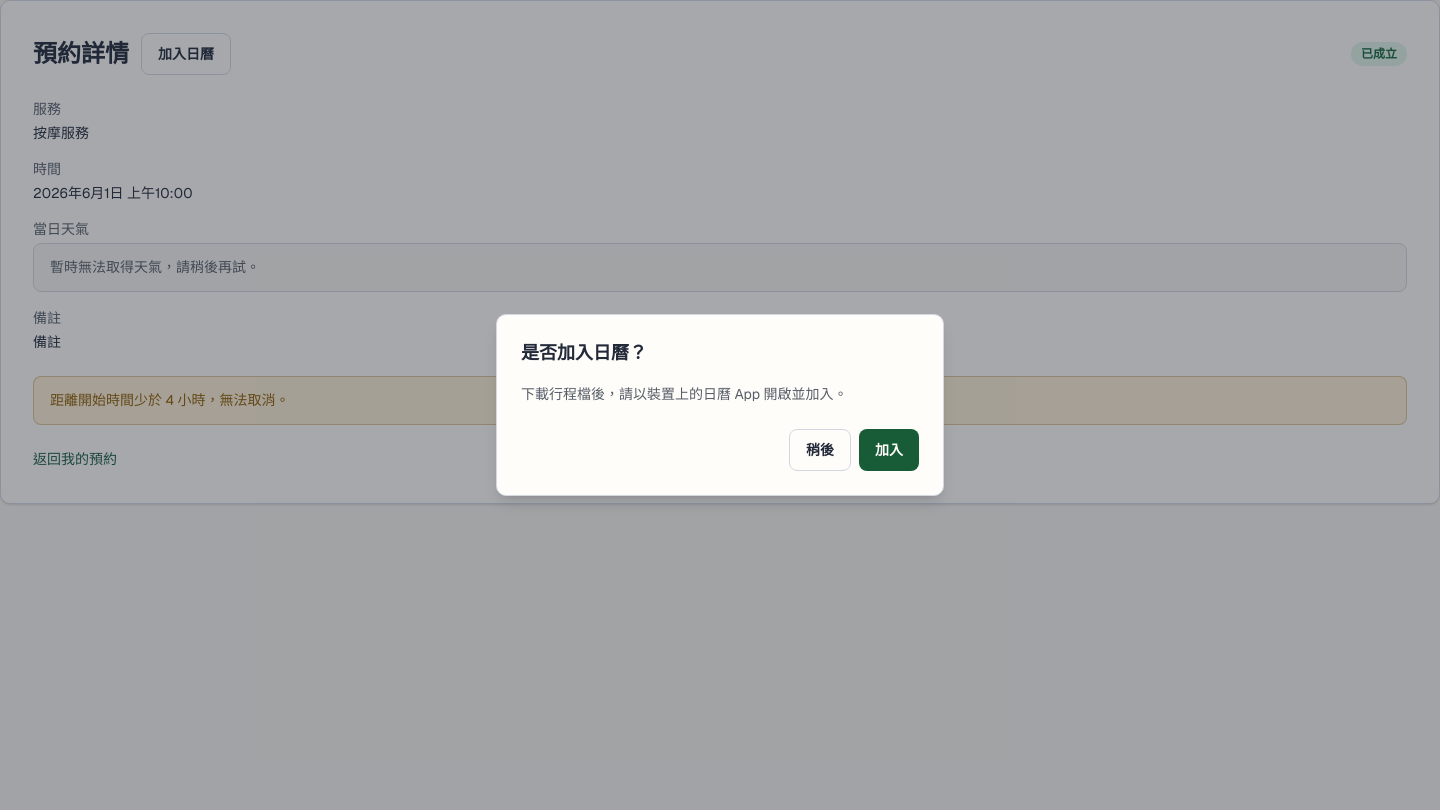
Test: BookingDetailClient › Dialog 點稍後可關閉
Check: the dialog is shown, box [496,314,944,496]
Click the button "稍後": [820, 450] box [789,429,851,471]
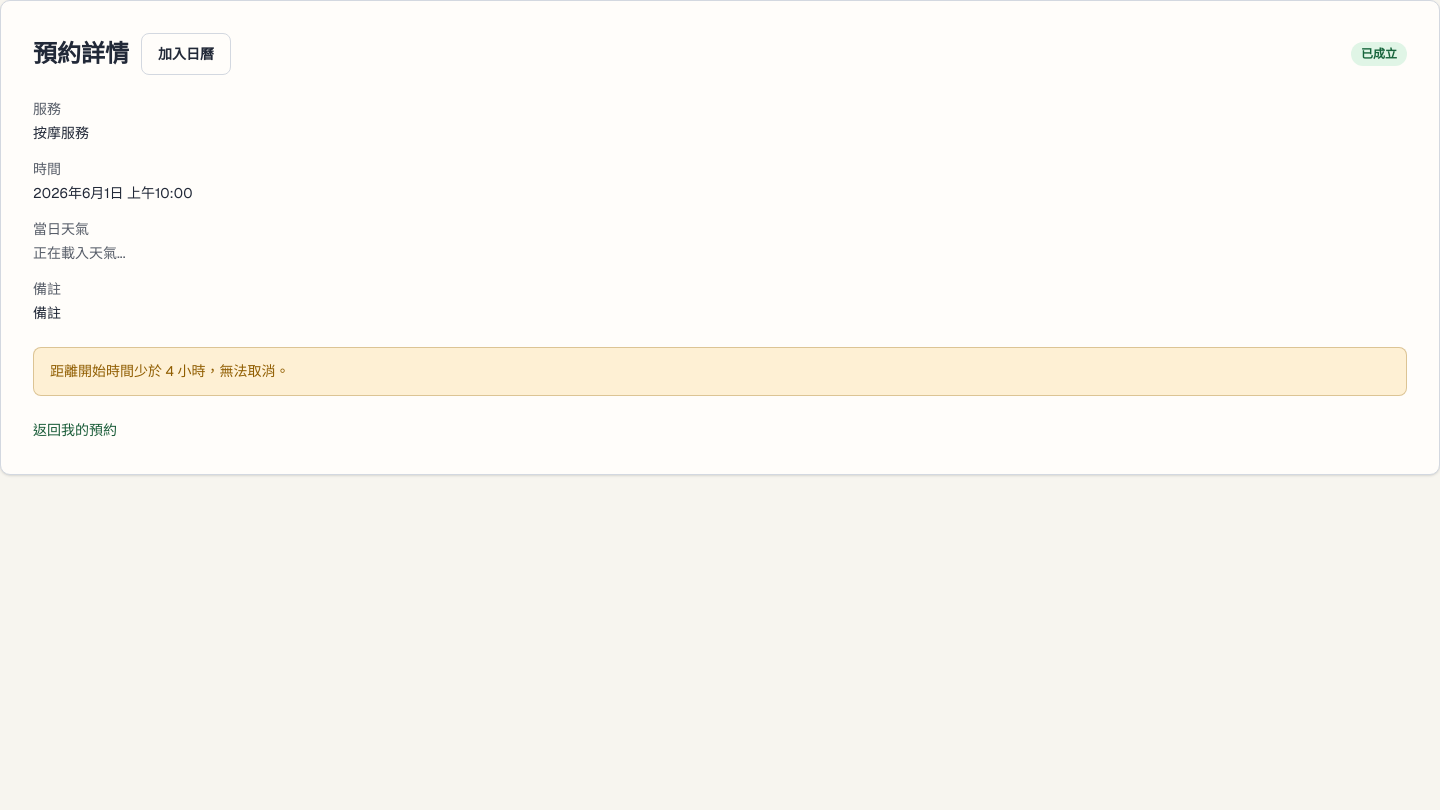
Check: the dialog is gone
